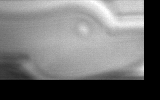cell: (73, 20, 93, 39)
